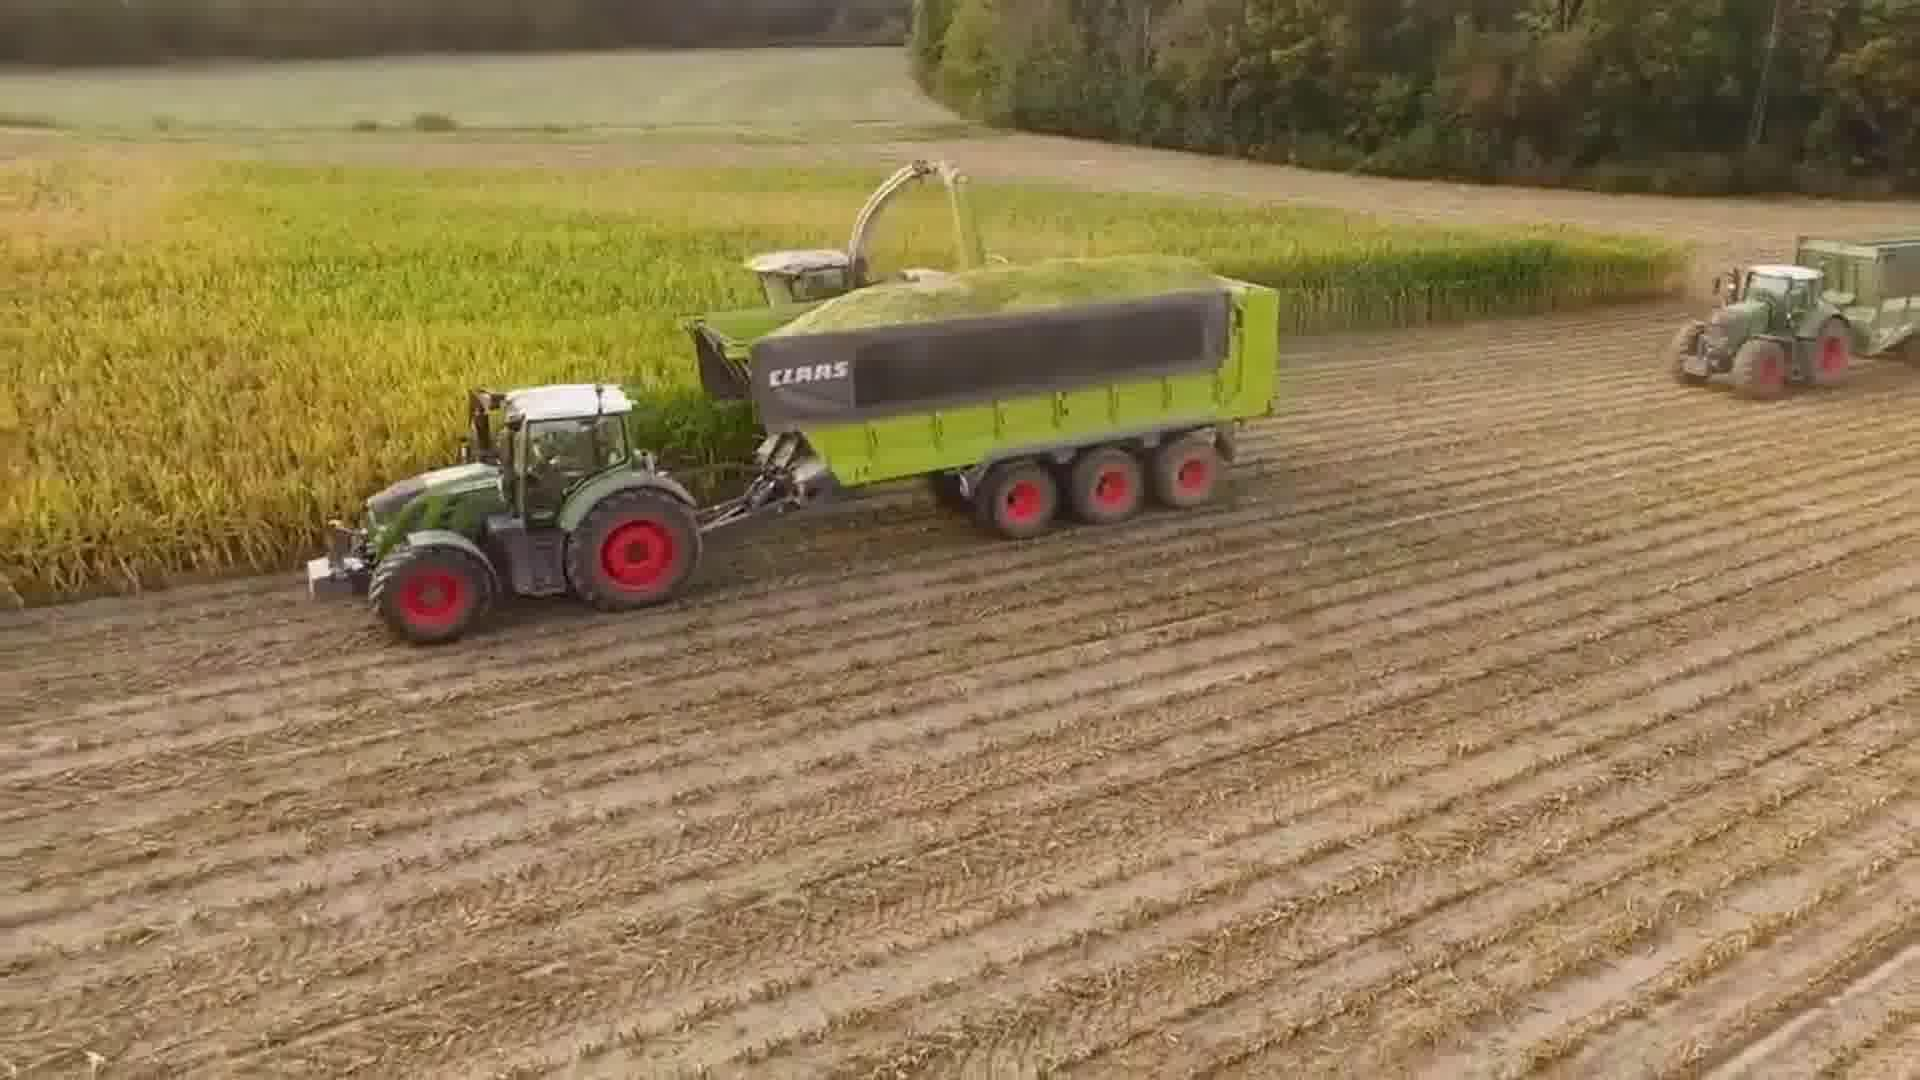combine harvester: (736, 151, 971, 310)
tractor: (304, 374, 710, 647), (1667, 257, 1861, 403)
trailer: (673, 246, 1284, 537), (1790, 221, 1920, 371)
